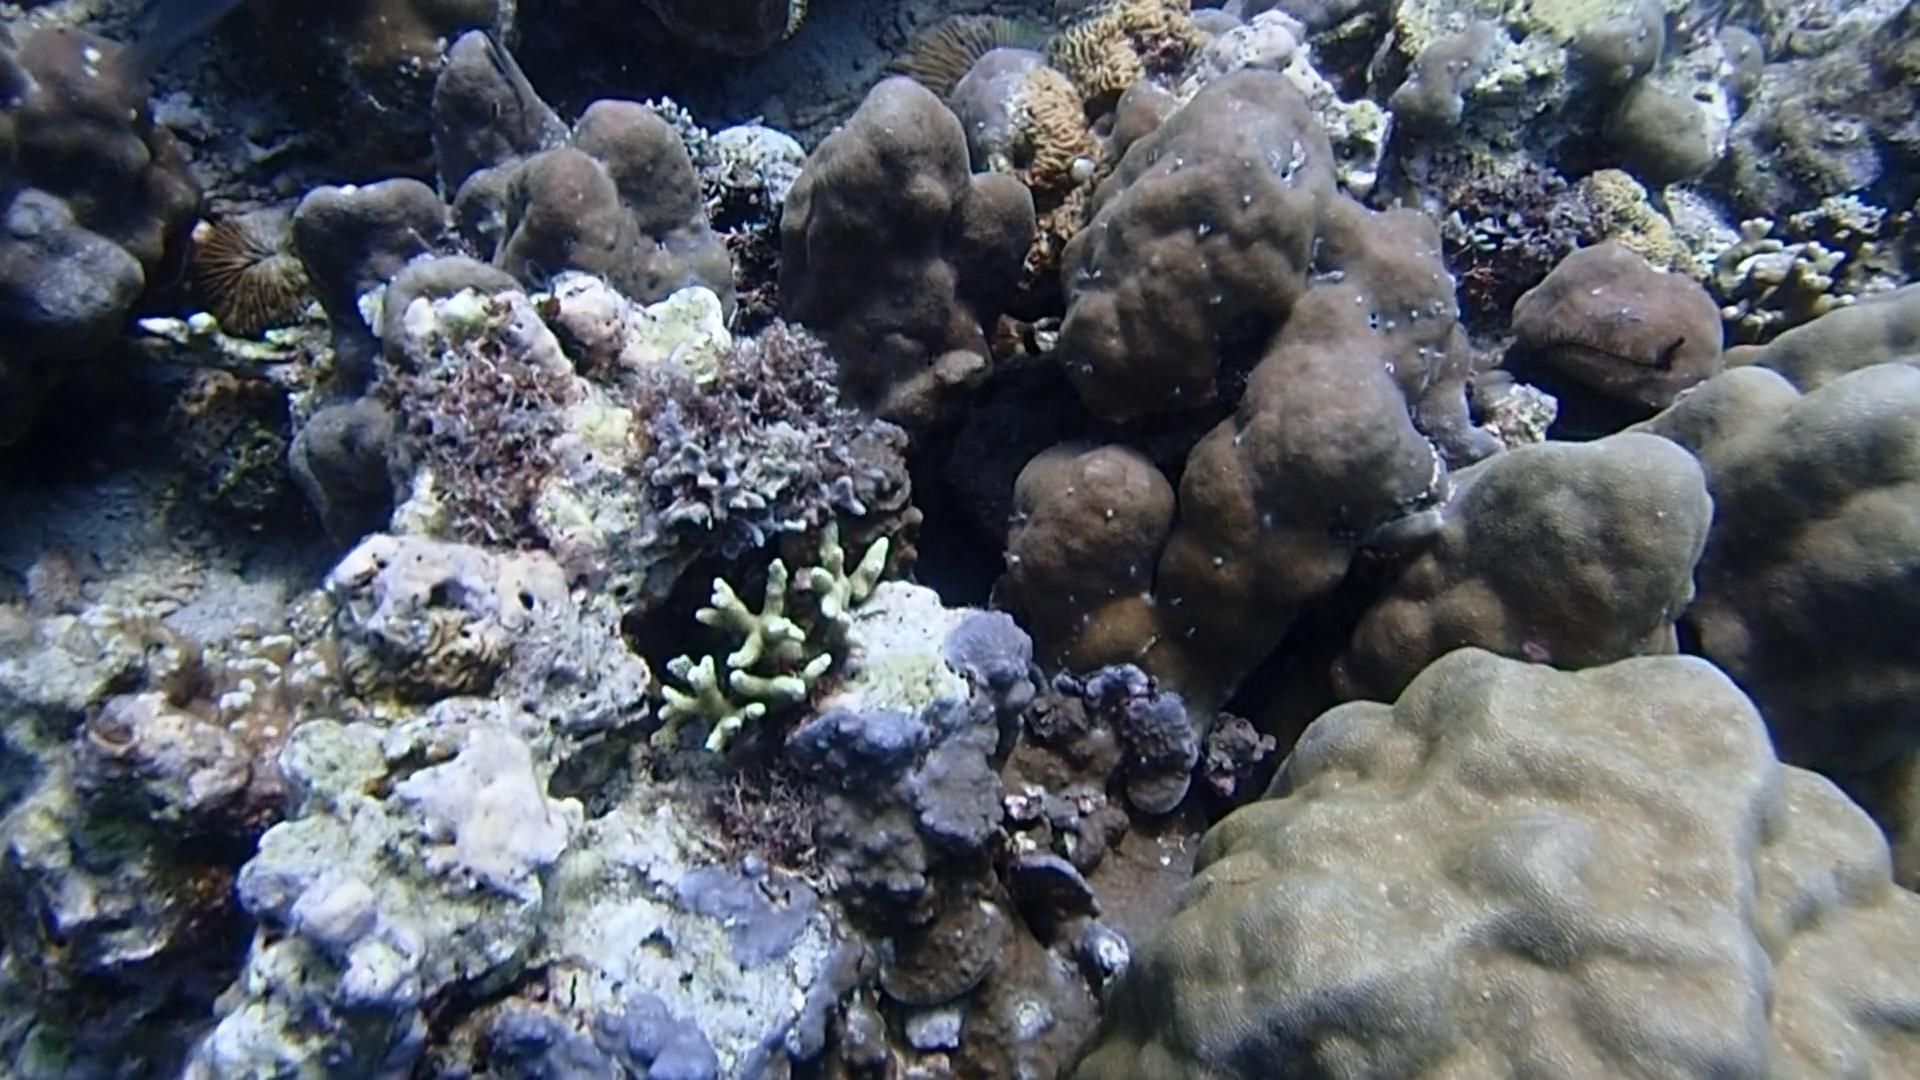Blue Fish Two: (112, 0, 239, 95)
